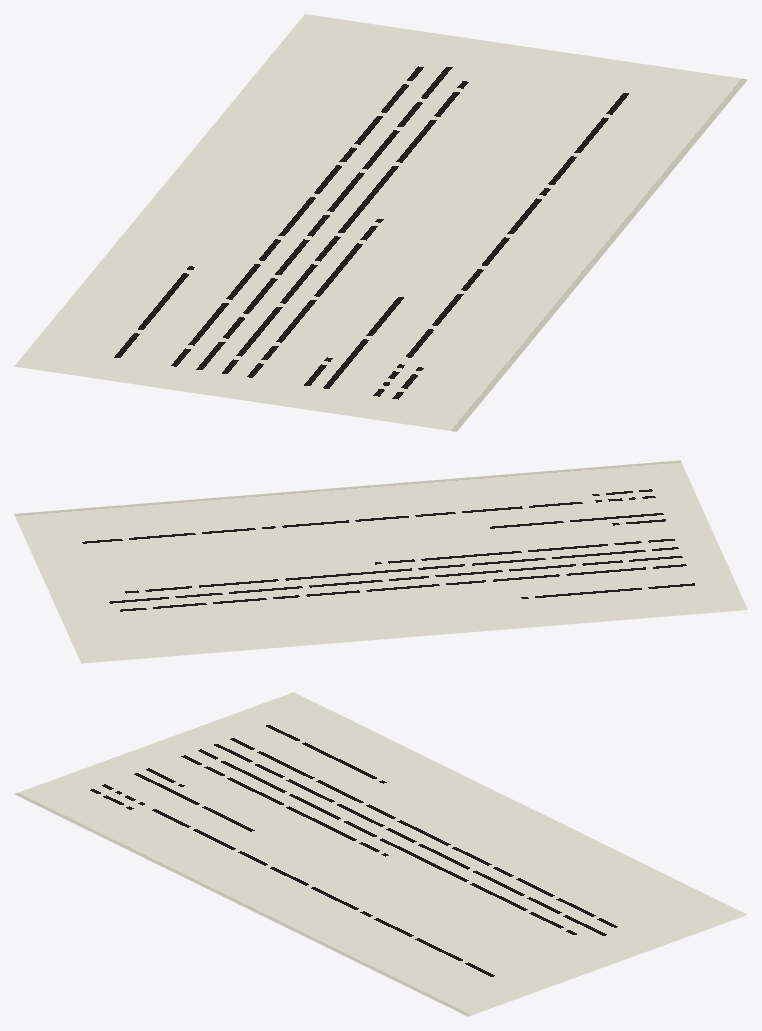
File: ExtraNametag.glb
3 views of the same model, one above another, from view 1: azimuth 30°, elevation 25°; view 2: azimuth 150°, elevation 25°; view 3: azimuth 270°, elevation 25° (orthographic). The views are drawn at different scales.
Visible parts, largest first — view 1: ExtraNametag; view 2: ExtraNametag; view 3: ExtraNametag.
Part boxes in pixels (left/top/right/bottom): ExtraNametag: left=14, top=14, right=747, bottom=431; ExtraNametag: left=14, top=460, right=747, bottom=663; ExtraNametag: left=14, top=692, right=747, bottom=1016.
Size of the model in its own units: 0.0981 by 0 by 0.0937.
1 material, 1 textured.
